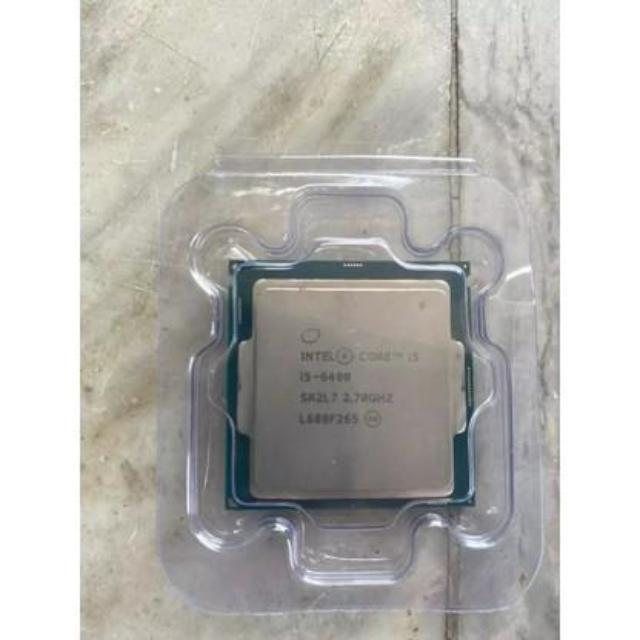CPU: (231, 263, 466, 505)
